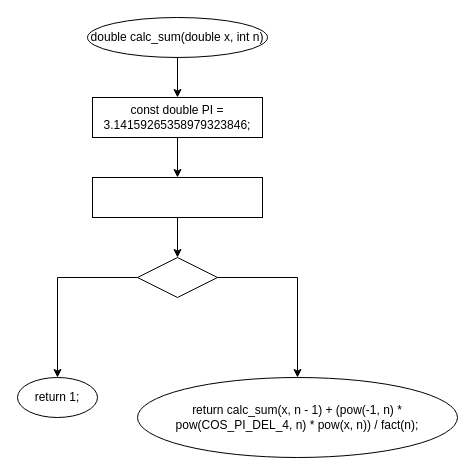
Some shapes in this 475 by 475 pixel diagram are drawn without their labels. Each missing label, with the centre of its shape:
"const double COS_PI_DEL_4 = cos(PI / 4.0);" goes at (x=177, y=197).
"if(n==0)" goes at (x=177, y=277).
